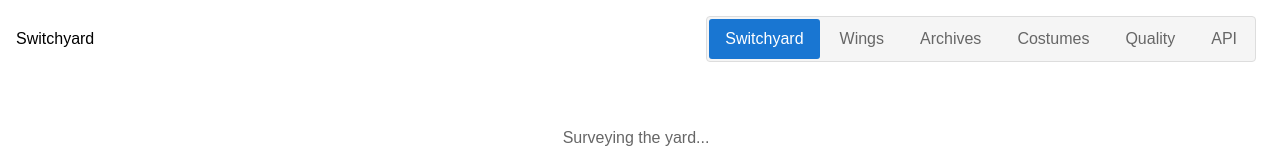
Test case: LairOverview › shows loading state
This screenshot has width=1273, height=163.
Step 1. Click the button "Wings" → (862, 39), box [824,19,900,59]
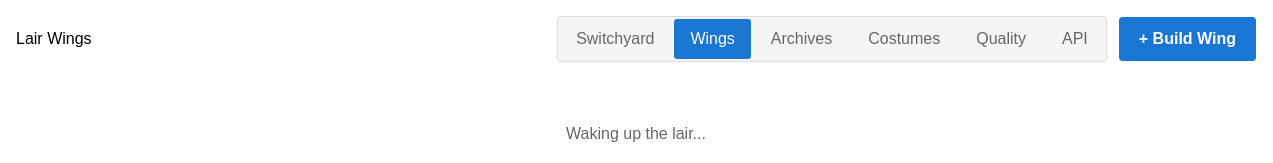
Expected: the text "Waking up the lair" is shown, [566,125,706,142]
